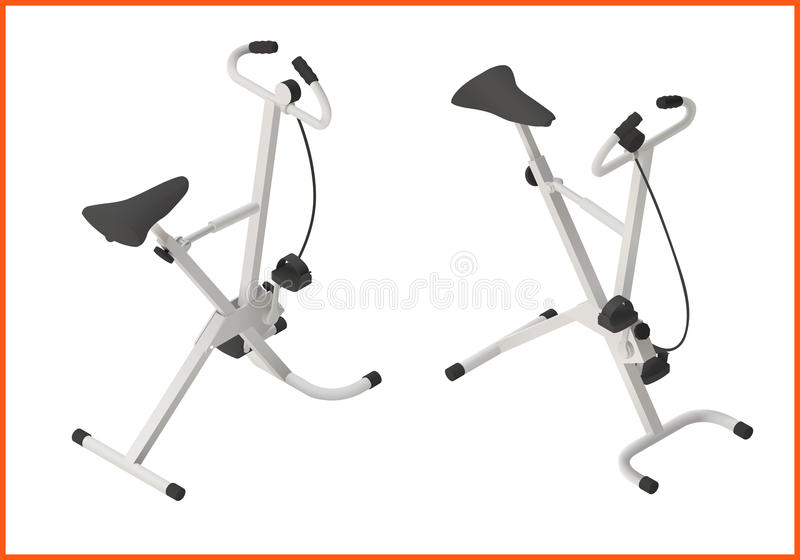gym_bike: (68, 36, 379, 522), (450, 64, 755, 495)
